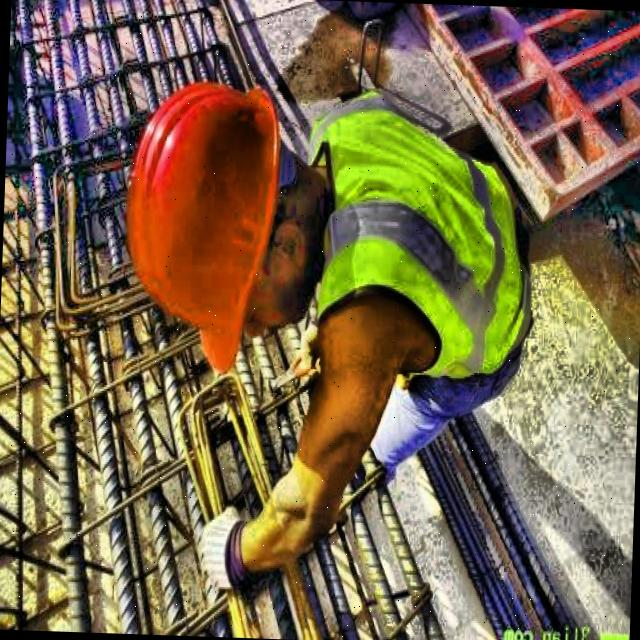helmet: (108, 70, 348, 356)
